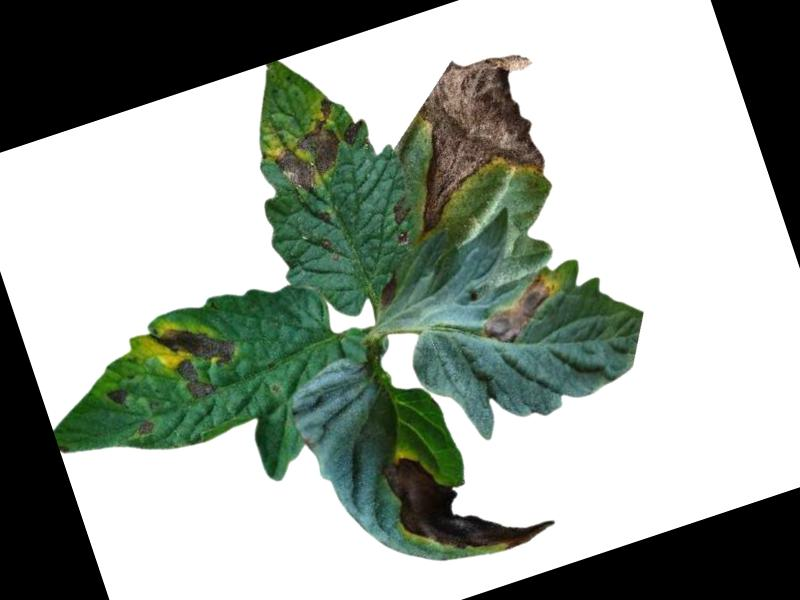Early_blight: (374, 38, 572, 241), (379, 418, 561, 582), (149, 308, 250, 411), (261, 96, 356, 198), (472, 264, 575, 350), (384, 192, 422, 247), (372, 271, 407, 309), (339, 116, 370, 150), (100, 381, 132, 413), (138, 419, 157, 437)
